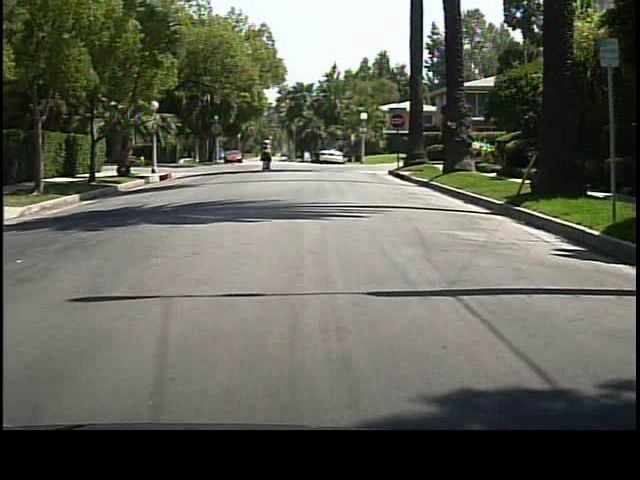person: (259, 134, 276, 172)
